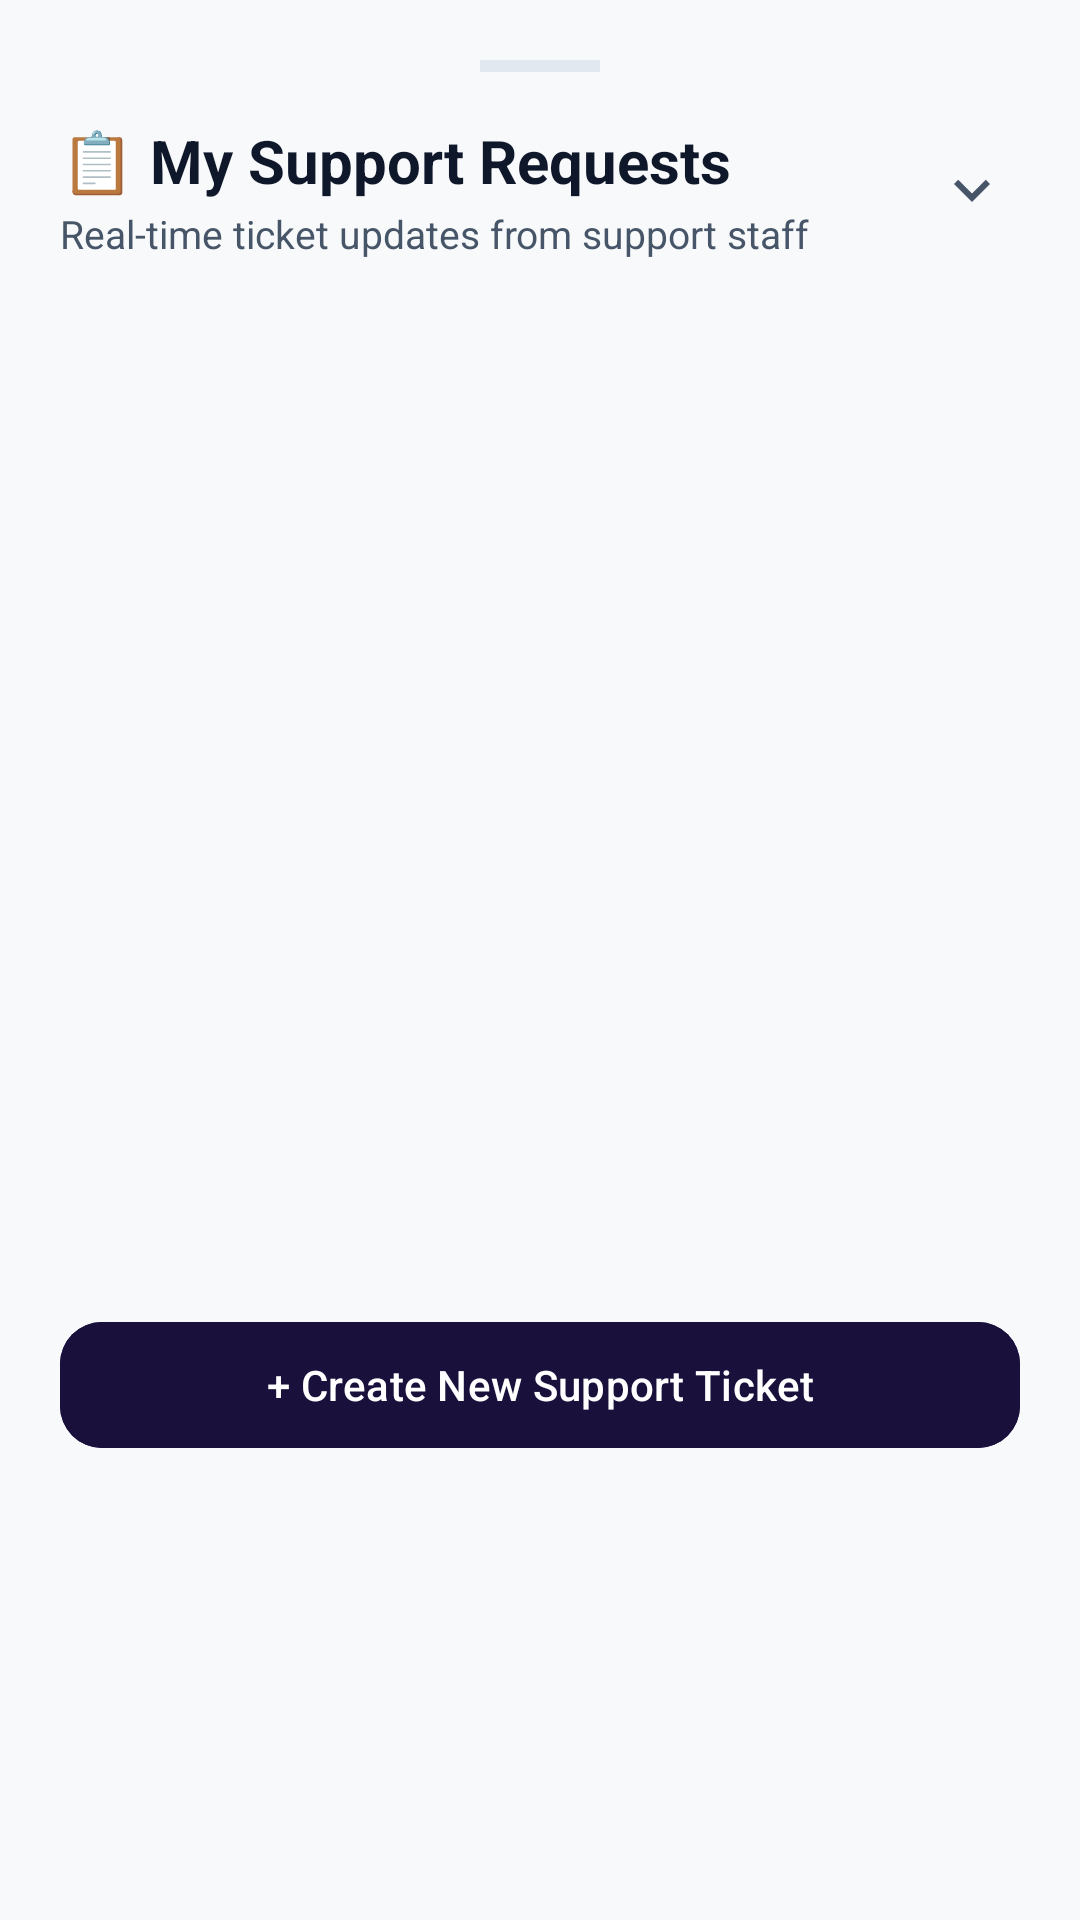

Icon click points for this 1080px x 1920px phone screenshot, format [x,y]:
chevron down: [972,191]
